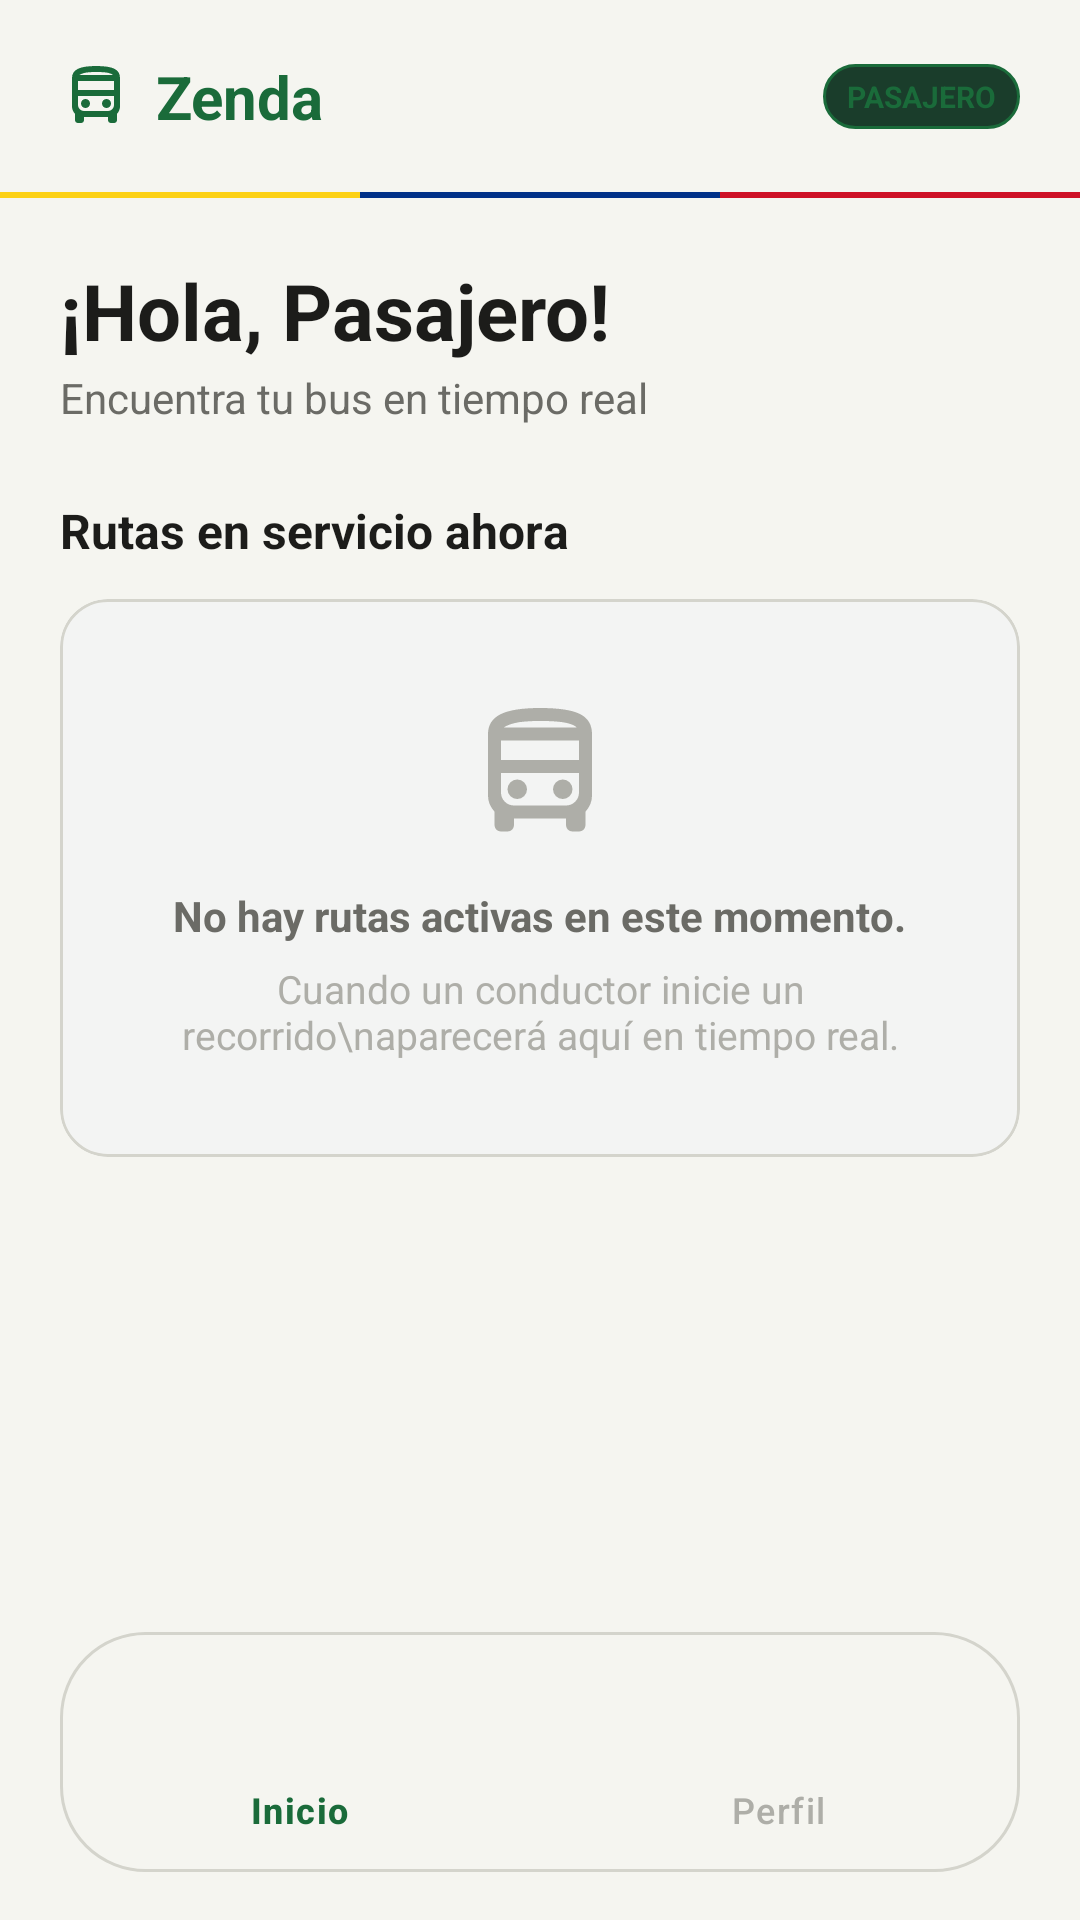

Point at icon controls on the screen. Image size 1080 x 1920, points as point (x, y).
bus: point (96, 94), point (540, 770)
